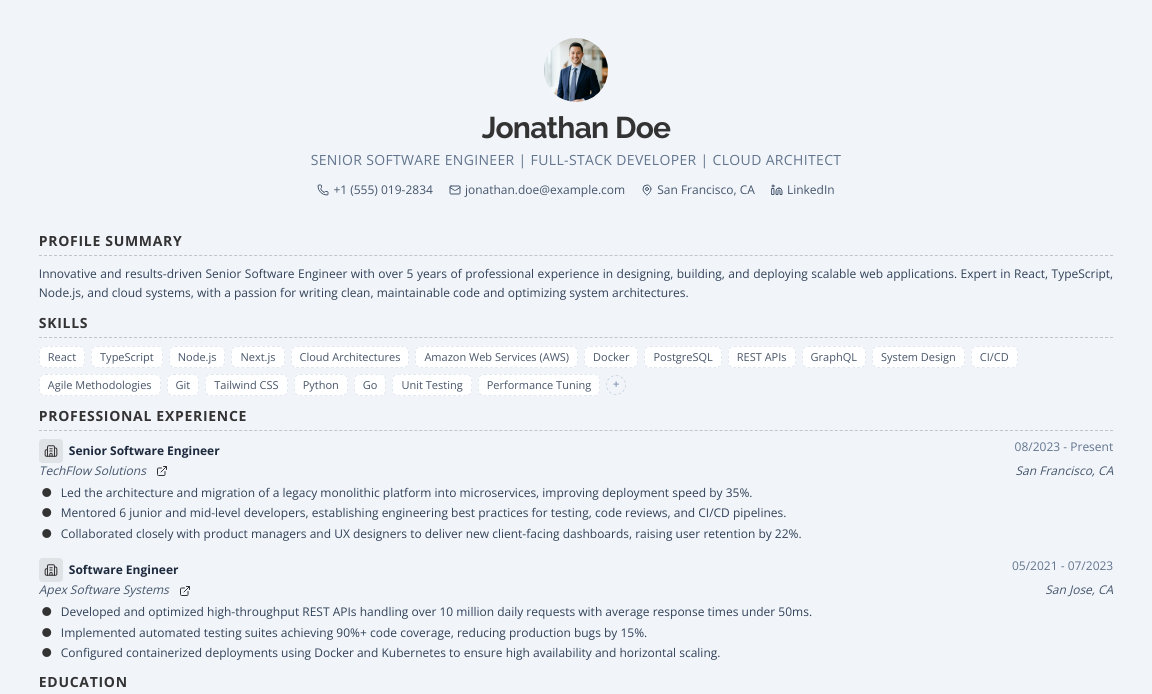
Scenario: ResumeTemplates — editable integration › navy: entry settings panel renders when gear is clicked
Press the mouse on the element with class "group" at (576, 491), box [39,439,1113,542]
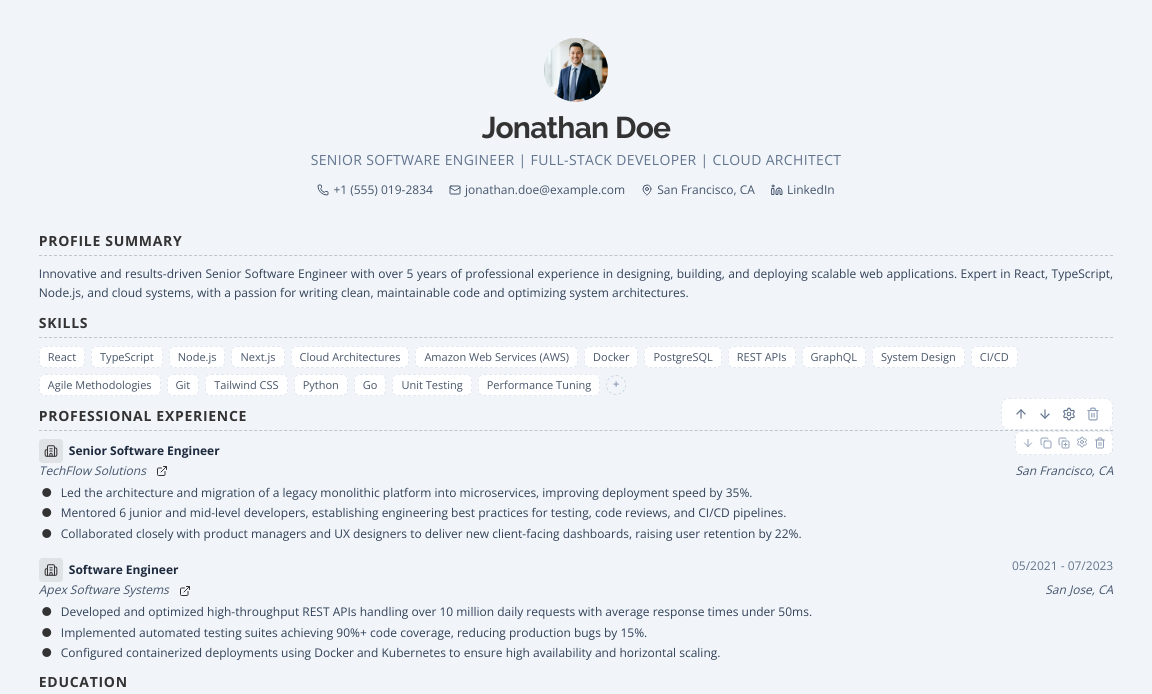
Result: the button titled "Settings" is shown
Click the button titled "Settings" at (1082, 442), box [1074,434,1090,450]
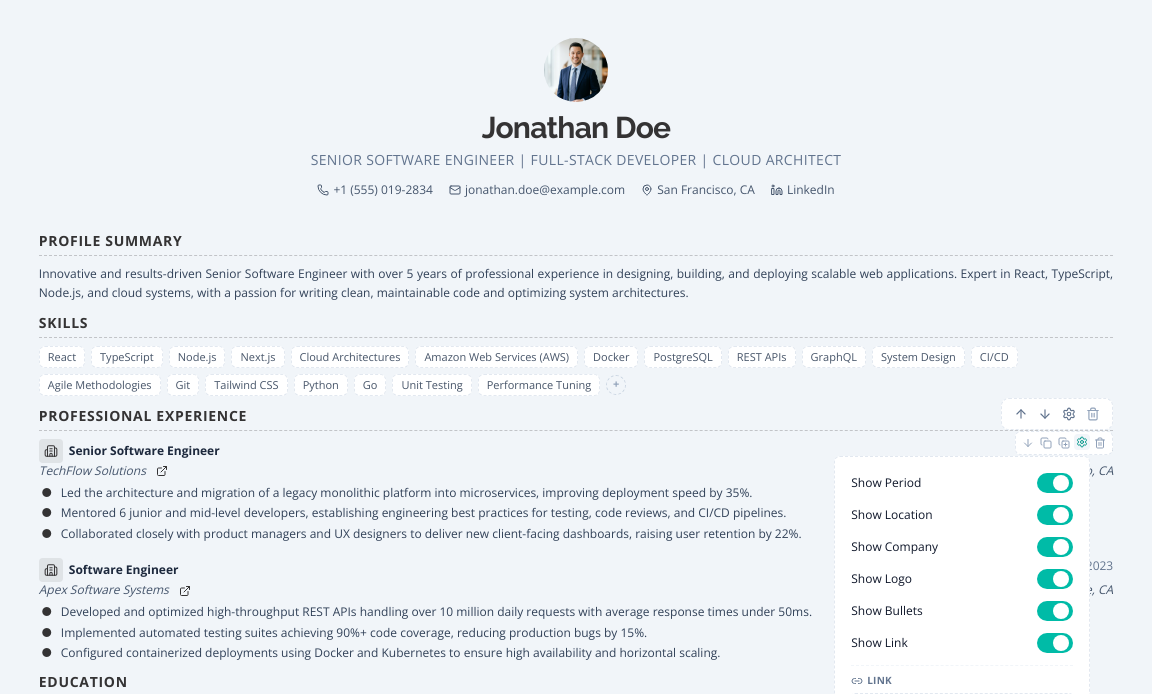
Result: the text "Show Period" is shown at [851,475,921,491]
